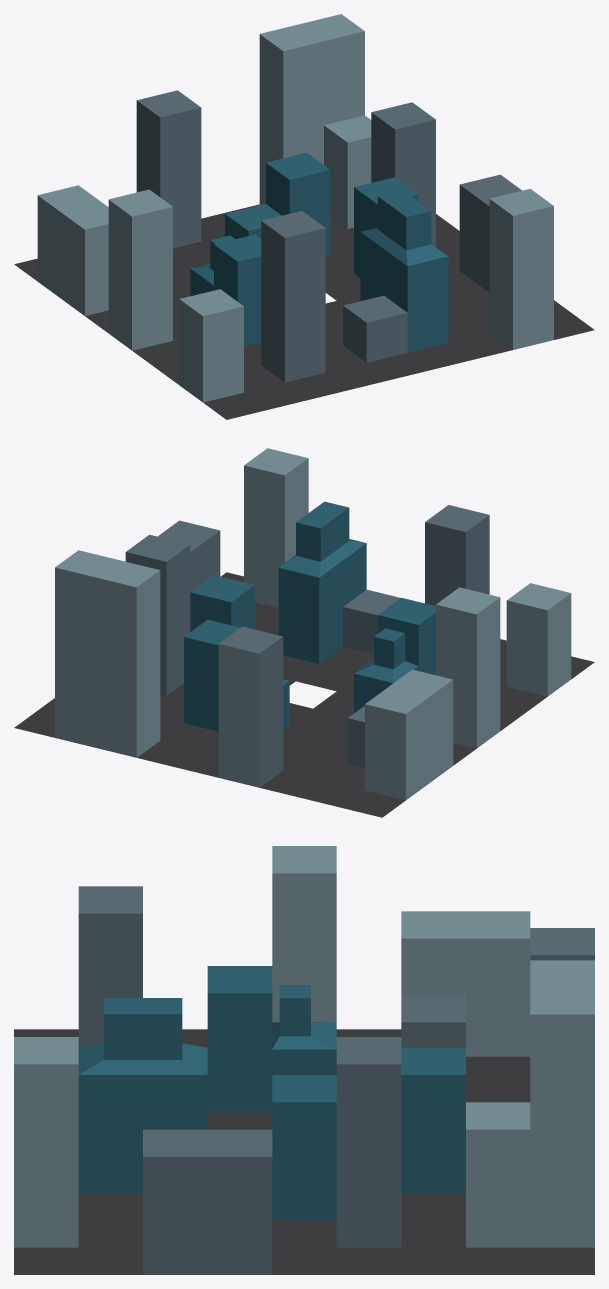
File: SM_Map.fbx
3 views of the same model, one above another, from view 1: azimuth 30°, elevation 25°; view 2: azimuth 150°, elevation 25°; view 3: azimuth 270°, elevation 25° (orthographic). The views are drawn at different scales.
Parts seen in each view (by area): view 1: Grid; view 2: Grid; view 3: Grid.
Part boxes in pixels (left/top/right/bottom): Grid: left=14, top=14, right=594, bottom=419; Grid: left=14, top=448, right=594, bottom=817; Grid: left=14, top=846, right=594, bottom=1274.
Bounding box in the file's own units: 234 × 103 × 234.
